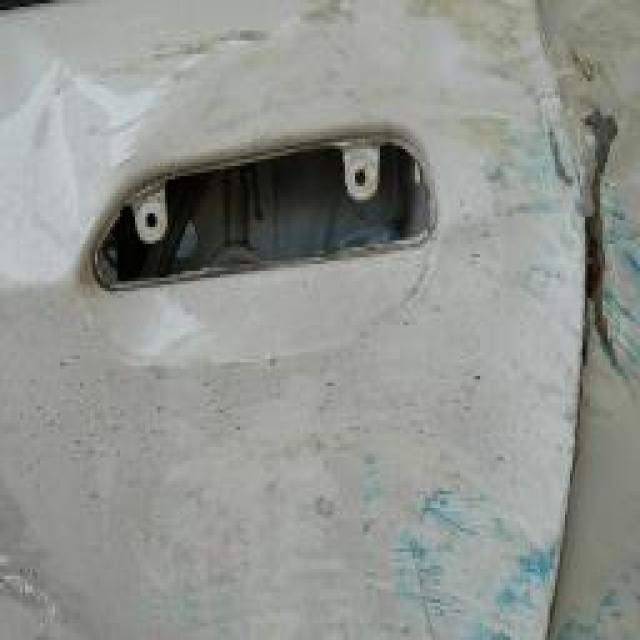Door: (10, 14, 640, 640)
